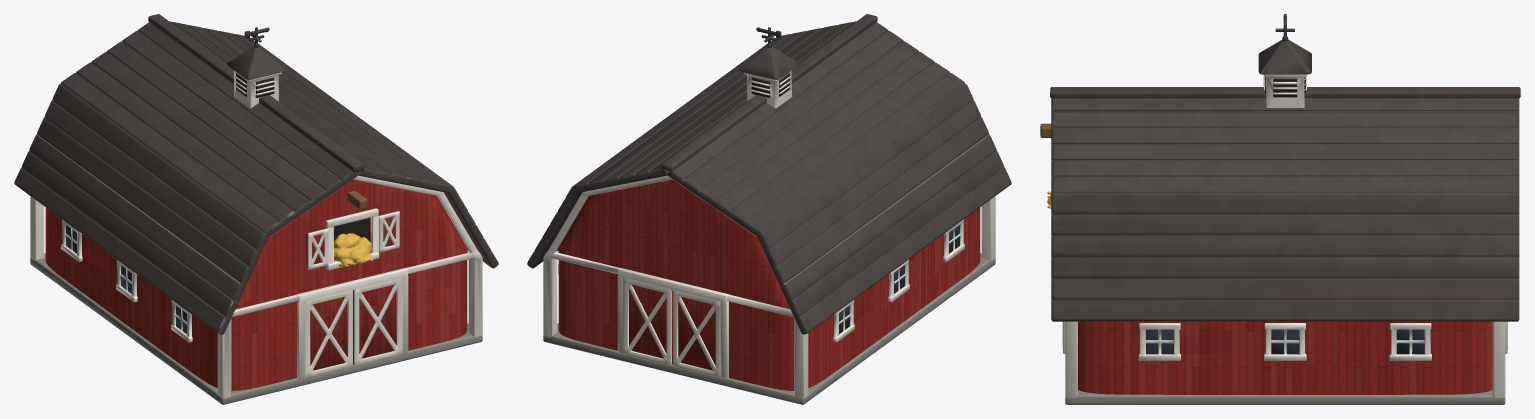
3 renders of one model, left to right at view 1: azimuth 30°, elevation 25°; view 2: azimuth 150°, elevation 25°; view 3: azimuth 270°, elevation 25°, orthographic. The views are drawn at different scales.
Visible parts, largest first — view 1: barn_roof, barn_walls, barn_trim, barn_doors, barn_foundation, barn_hay, barn_dark, barn_glass; view 2: barn_roof, barn_walls, barn_trim, barn_foundation, barn_doors, barn_glass; view 3: barn_roof, barn_walls, barn_trim, barn_foundation, barn_glass, barn_dark.
Boxes of the visible parts, left/top/right/bottom form: barn_roof: left=14, top=14, right=498, bottom=334; barn_walls: left=45, top=179, right=467, bottom=390; barn_trim: left=30, top=70, right=482, bottom=398; barn_doors: left=306, top=210, right=397, bottom=370; barn_foundation: left=30, top=253, right=482, bottom=404; barn_hay: left=334, top=233, right=372, bottom=266; barn_dark: left=236, top=73, right=366, bottom=240; barn_glass: left=66, top=225, right=186, bottom=333; barn_roof: left=527, top=14, right=1011, bottom=334; barn_walls: left=558, top=179, right=980, bottom=390; barn_trim: left=543, top=70, right=995, bottom=399; barn_foundation: left=543, top=253, right=995, bottom=404; barn_doors: left=629, top=285, right=715, bottom=370; barn_glass: left=839, top=225, right=959, bottom=333; barn_roof: left=1050, top=40, right=1520, bottom=321; barn_walls: left=1078, top=321, right=1492, bottom=394; barn_trim: left=1062, top=74, right=1507, bottom=398; barn_foundation: left=1065, top=390, right=1505, bottom=404; barn_glass: left=1146, top=329, right=1424, bottom=354; barn_dark: left=1265, top=77, right=1305, bottom=97.
Size of the model in its own units: 15.37 by 14.4 by 19.9.
Materials: 1 (1 with a texture image).
